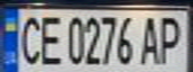0: (60, 12, 84, 66)
2: (81, 12, 103, 66)
6: (115, 12, 139, 65)
7: (100, 12, 121, 65)
A: (136, 14, 163, 65)
C: (12, 11, 45, 66)
E: (33, 11, 63, 66)
P: (154, 12, 187, 65)
